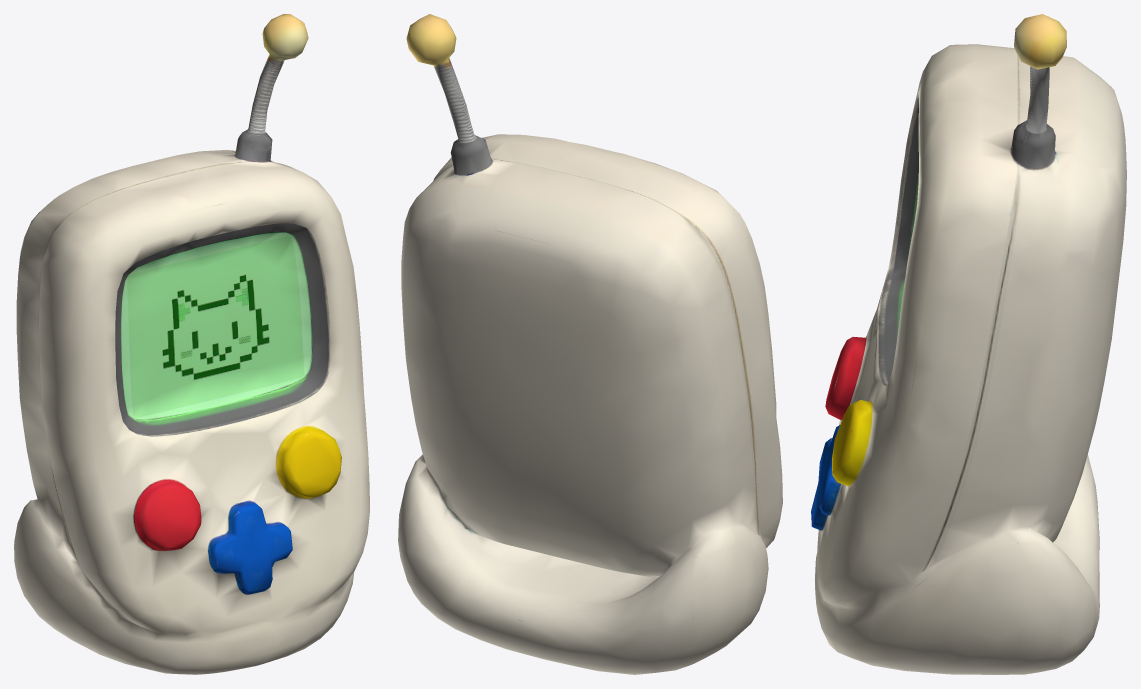
The model's file is Meshy_AI_Pixel_Cat_Portable_0401031854_texture.fbx.
The picture shows the model from 3 angles, left to right: view 1: azimuth 30°, elevation 25°; view 2: azimuth 150°, elevation 25°; view 3: azimuth 270°, elevation 25°; orthographic projection. The views are drawn at different scales.
Visible parts, largest first — view 1: Mesh1.0; view 2: Mesh1.0; view 3: Mesh1.0.
Boxes of the visible parts, bbox=[...] form: Mesh1.0: bbox=[14, 14, 369, 674]; Mesh1.0: bbox=[398, 14, 782, 674]; Mesh1.0: bbox=[811, 14, 1126, 674].
Bounding box in the file's own units: 110 × 191 × 79.88.
Materials: 1 (1 with a texture image).
